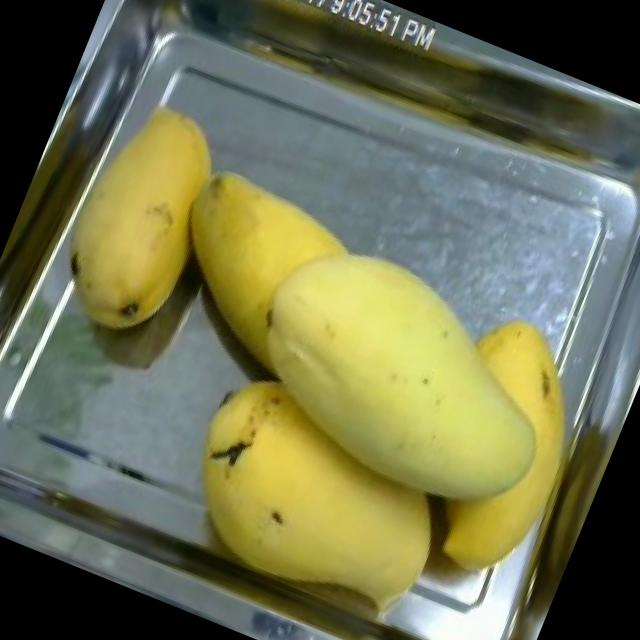fruit: (173, 203, 603, 618), (169, 395, 469, 640), (35, 80, 252, 352)
